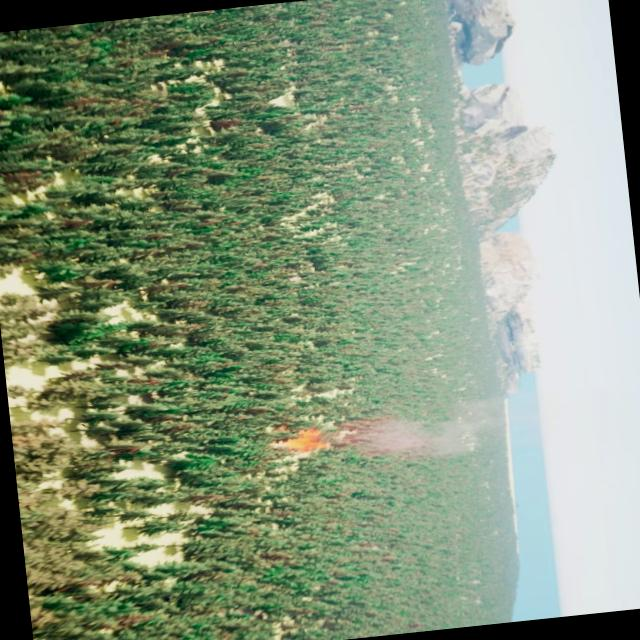fire: (280, 424, 326, 455)
smoke: (331, 396, 516, 470)
